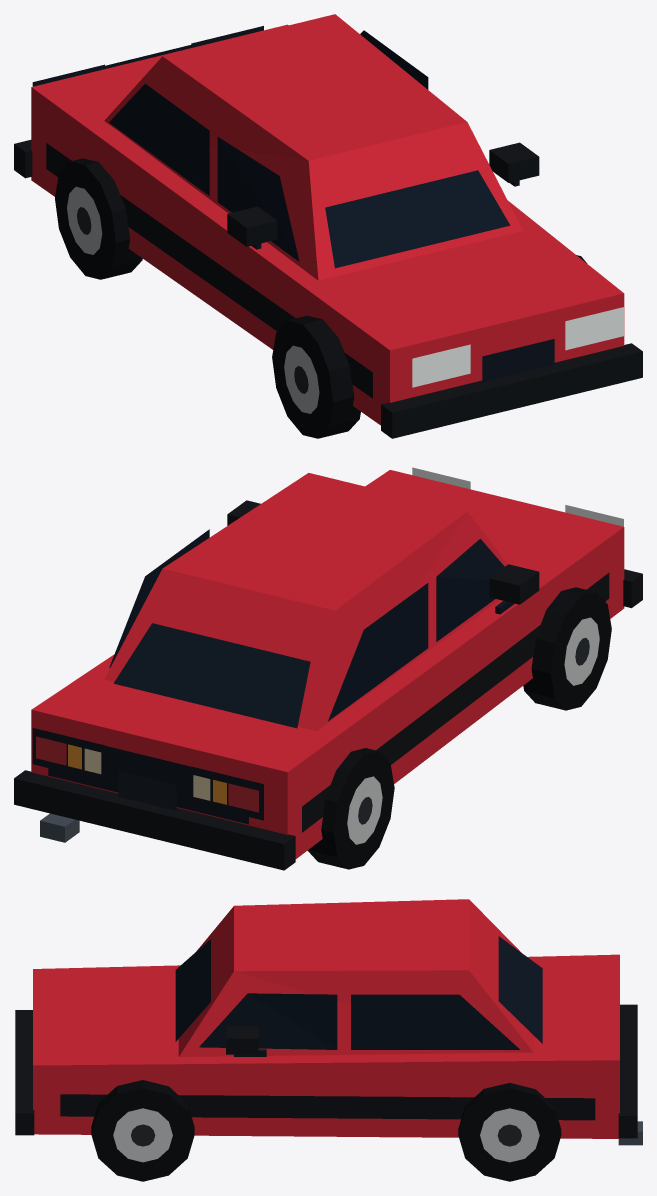
The model's file is project-shirokage-red-low-poly.obj.
The picture shows the model from 3 angles, top to bottom: view 1: azimuth 30°, elevation 25°; view 2: azimuth 150°, elevation 25°; view 3: azimuth 270°, elevation 25°; orthographic projection. The views are drawn at different scales.
Parts seen in each view (by area): view 1: body-shell, cabin-shell, front-windshield, front-bumper, rear-side-window--1, lower-black-accent--1, front-side-window--1, rear-wheel--1-cap-a, front-wheel--1-cap-a, front-wheel--1-tread, rear-wheel--1-tread, front-grille (+9 smaller); view 2: body-shell, cabin-shell, rear-window, rear-bumper, rear-side-window--1, lower-black-accent--1, front-side-window--1, rear-trim, rear-wheel--1-cap-a, front-wheel--1-cap-a, front-wheel--1-tread, rear-wheel--1-tread (+11 smaller); view 3: body-shell, cabin-shell, lower-black-accent-1, rear-side-window-1, front-side-window-1, front-wheel-1-cap-b, rear-wheel-1-cap-b, rear-window, rear-bumper, front-windshield, front-bumper, rear-wheel-1-hub (+6 smaller).
Part boxes in pixels (box(x1,y1,x2,y2)): body-shell: box(31, 24, 624, 425); cabin-shell: box(104, 14, 522, 280); front-windshield: box(325, 170, 510, 268); front-bumper: box(381, 343, 642, 438); rear-side-window--1: box(109, 83, 209, 195); lower-black-accent--1: box(46, 143, 372, 398); front-side-window--1: box(217, 137, 299, 261); rear-wheel--1-cap-a: box(55, 161, 115, 279); front-wheel--1-cap-a: box(272, 320, 332, 438); front-wheel--1-tread: box(287, 315, 360, 438); rear-wheel--1-tread: box(70, 158, 142, 279); front-grille: box(482, 339, 554, 382); body-shell: box(31, 470, 624, 858); cabin-shell: box(104, 473, 508, 731); rear-window: box(113, 623, 310, 728); rear-bumper: box(14, 770, 295, 870); rear-side-window--1: box(328, 583, 428, 721); lower-black-accent--1: box(302, 572, 609, 832); front-side-window--1: box(436, 538, 504, 641); rear-trim: box(48, 745, 248, 824); rear-wheel--1-cap-a: box(333, 751, 394, 869); front-wheel--1-cap-a: box(550, 592, 611, 710); front-wheel--1-tread: box(523, 587, 595, 710); rear-wheel--1-tread: box(307, 748, 378, 869); body-shell: box(33, 954, 619, 1138); cabin-shell: box(178, 899, 533, 1056); lower-black-accent-1: box(60, 1094, 595, 1120); rear-side-window-1: box(351, 994, 520, 1049); front-side-window-1: box(199, 993, 337, 1049); front-wheel-1-cap-b: box(91, 1088, 194, 1181); rear-wheel-1-cap-b: box(458, 1088, 561, 1181); rear-window: box(498, 936, 542, 1043); rear-bumper: box(618, 1004, 637, 1138); front-windshield: box(175, 939, 210, 1041); front-bumper: box(15, 1010, 34, 1135); rear-wheel-1-hub: box(480, 1108, 539, 1162).
Bounding box in the file's own units: 2.1 × 1.54 × 4.63.
